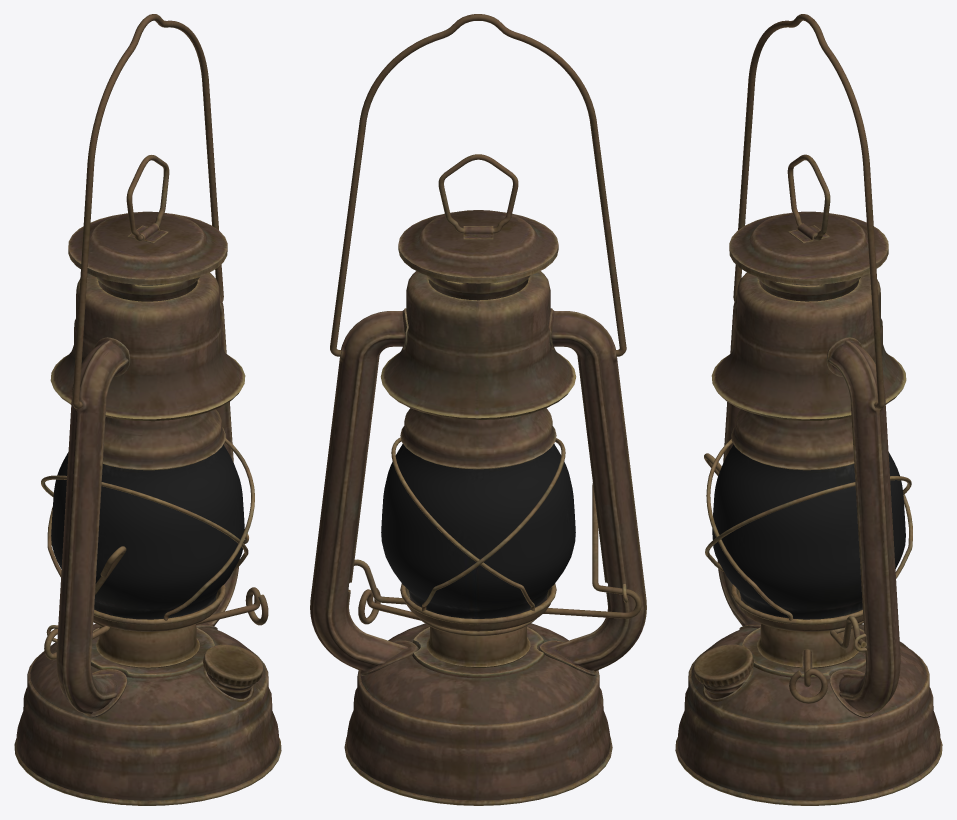
File: SM_PH_Lantern_01.fbx
3 views of the same model, side by side, from view 1: azimuth 30°, elevation 25°; view 2: azimuth 150°, elevation 25°; view 3: azimuth 270°, elevation 25° (orthographic).
Visible parts, largest first — view 1: SM_PH_Lantern_01; view 2: SM_PH_Lantern_01; view 3: SM_PH_Lantern_01.
Boxes of the visible parts, x1,y1,x2,y2 form: SM_PH_Lantern_01: (14,14,281,805); SM_PH_Lantern_01: (310,14,646,805); SM_PH_Lantern_01: (675,14,942,805).
Size of the model in its own units: 0.1088 by 0.097 by 0.2942.
Materials: 2 (2 with a texture image).
